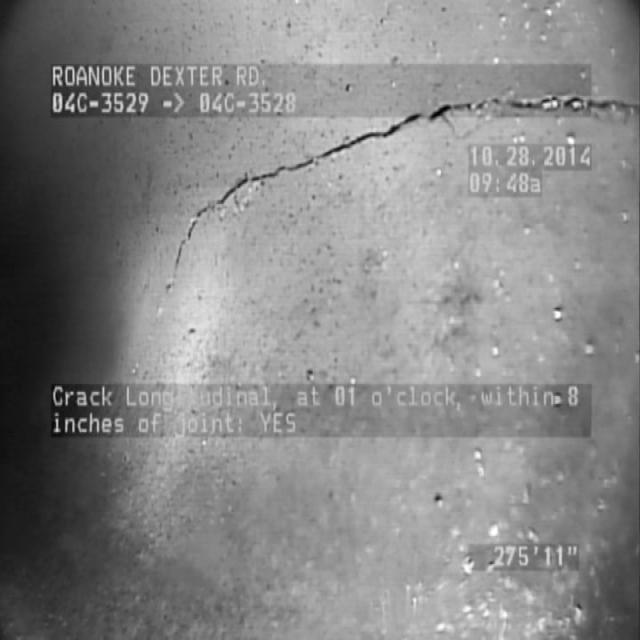Crack: (150, 52, 610, 310)
